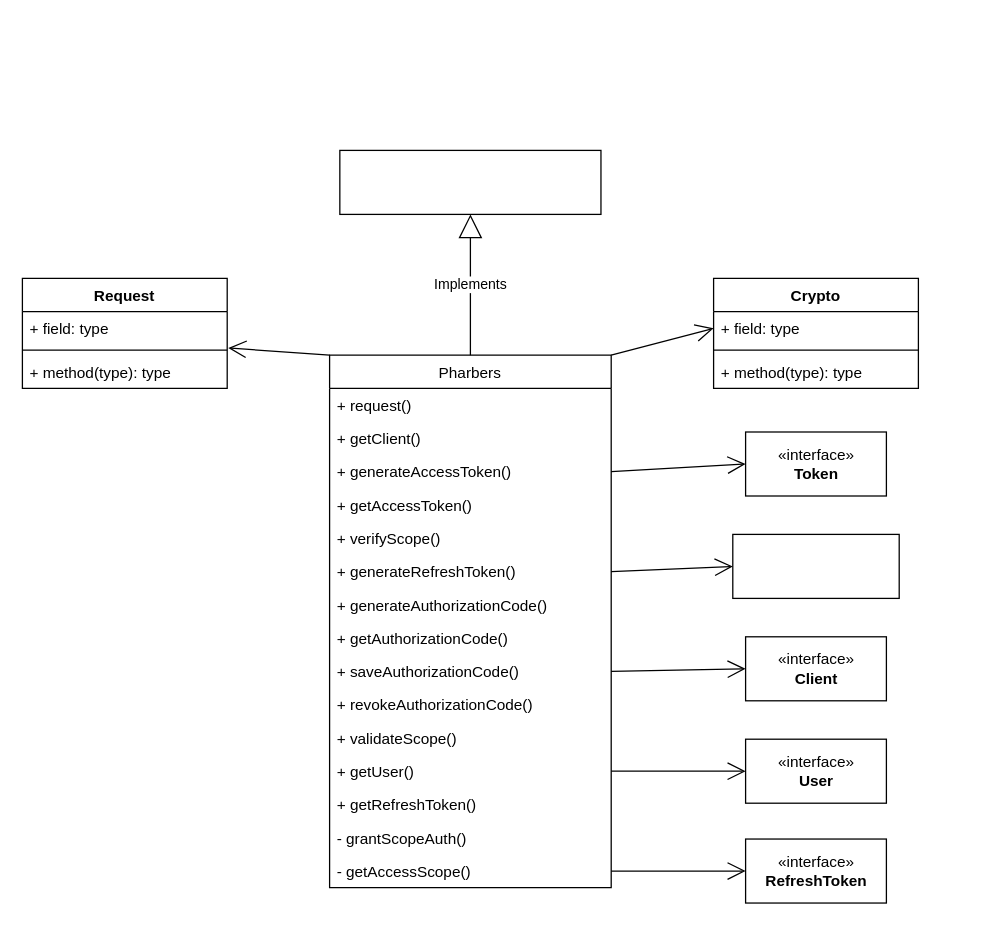
Some shapes in this 1005 by 925 pixel diagram are drawn without their labels. The centre of each missing label's shape, as x and y in pixels:
"«interface» AuthorizationCode" goes at [815,565].
"«interface» AuthorizationCodeModel" goes at [470,181].
